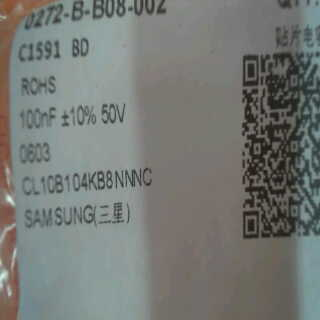100nF: (14, 105, 60, 130)
